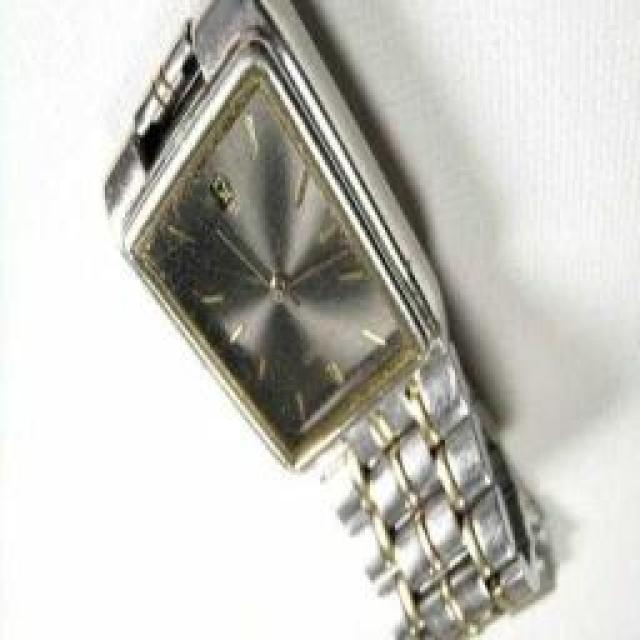saat: (95, 0, 555, 640)
